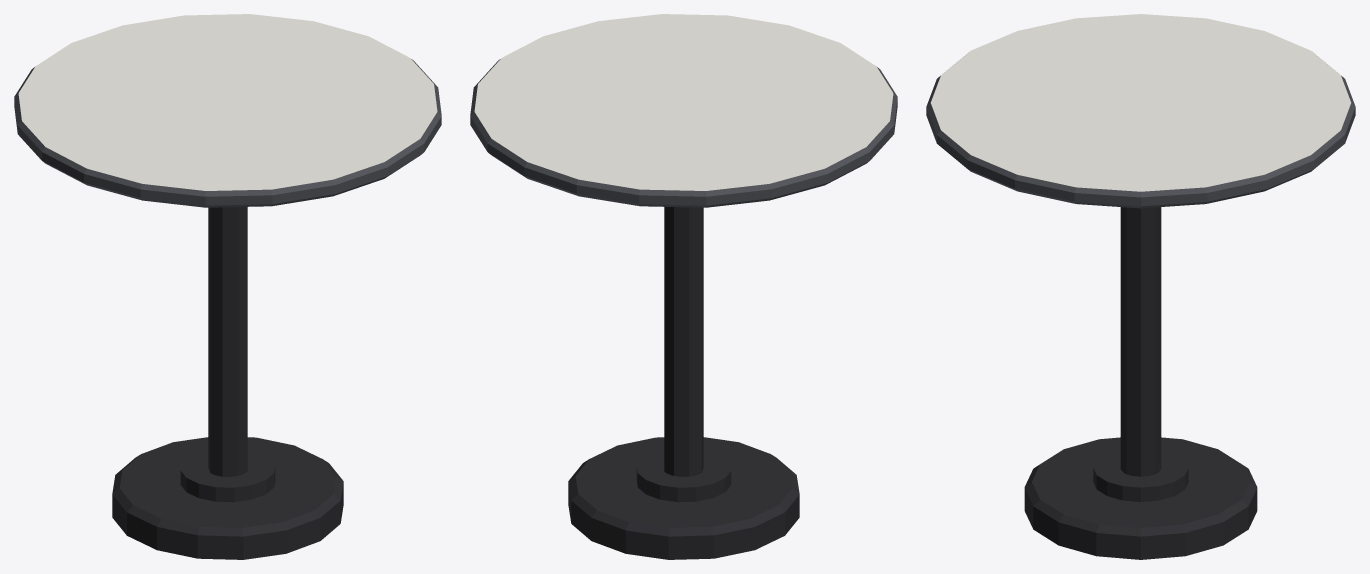
Rendered from FN_Table_Cafe_Round.glb.
3 renders of one model, left to right at view 1: azimuth 30°, elevation 25°; view 2: azimuth 150°, elevation 25°; view 3: azimuth 270°, elevation 25°, orthographic.
Parts seen in each view (by area): view 1: FN_Table_Cafe_Round; view 2: FN_Table_Cafe_Round; view 3: FN_Table_Cafe_Round.
Boxes of the visible parts, x1,y1,x2,y2 form: FN_Table_Cafe_Round: [14, 14, 441, 559]; FN_Table_Cafe_Round: [470, 14, 897, 559]; FN_Table_Cafe_Round: [926, 14, 1355, 559].
Bounding box in the file's own units: 0.7 × 0.74 × 0.7.
1 material, 1 textured.
